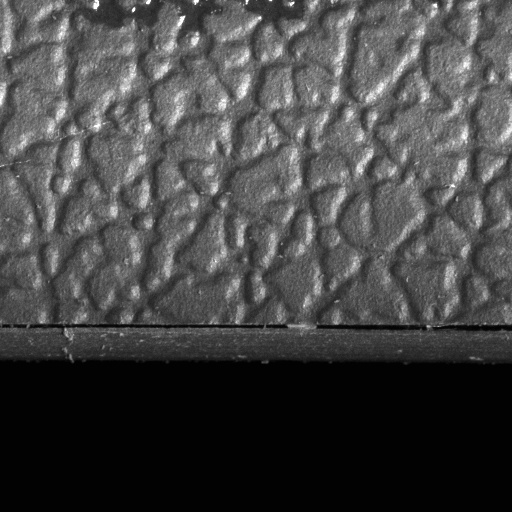jiaofeng: (0, 320, 289, 343), (314, 317, 511, 343)
